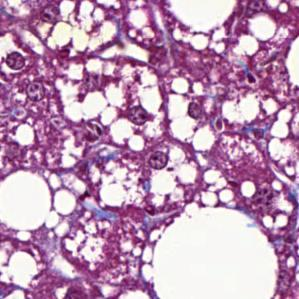steatosis: (150, 208, 281, 299)
